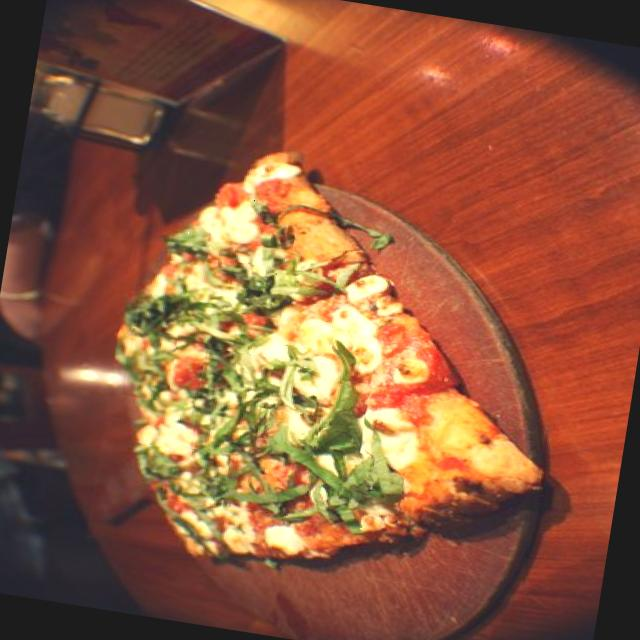basil: (230, 433, 408, 532), (192, 348, 276, 458), (314, 331, 378, 460), (137, 283, 244, 349), (164, 446, 231, 508), (123, 327, 178, 401), (270, 344, 324, 415), (272, 251, 340, 306), (226, 261, 288, 318), (241, 196, 300, 251), (126, 441, 178, 484), (346, 220, 398, 256), (168, 224, 212, 266)
pizza: (120, 152, 541, 557)
